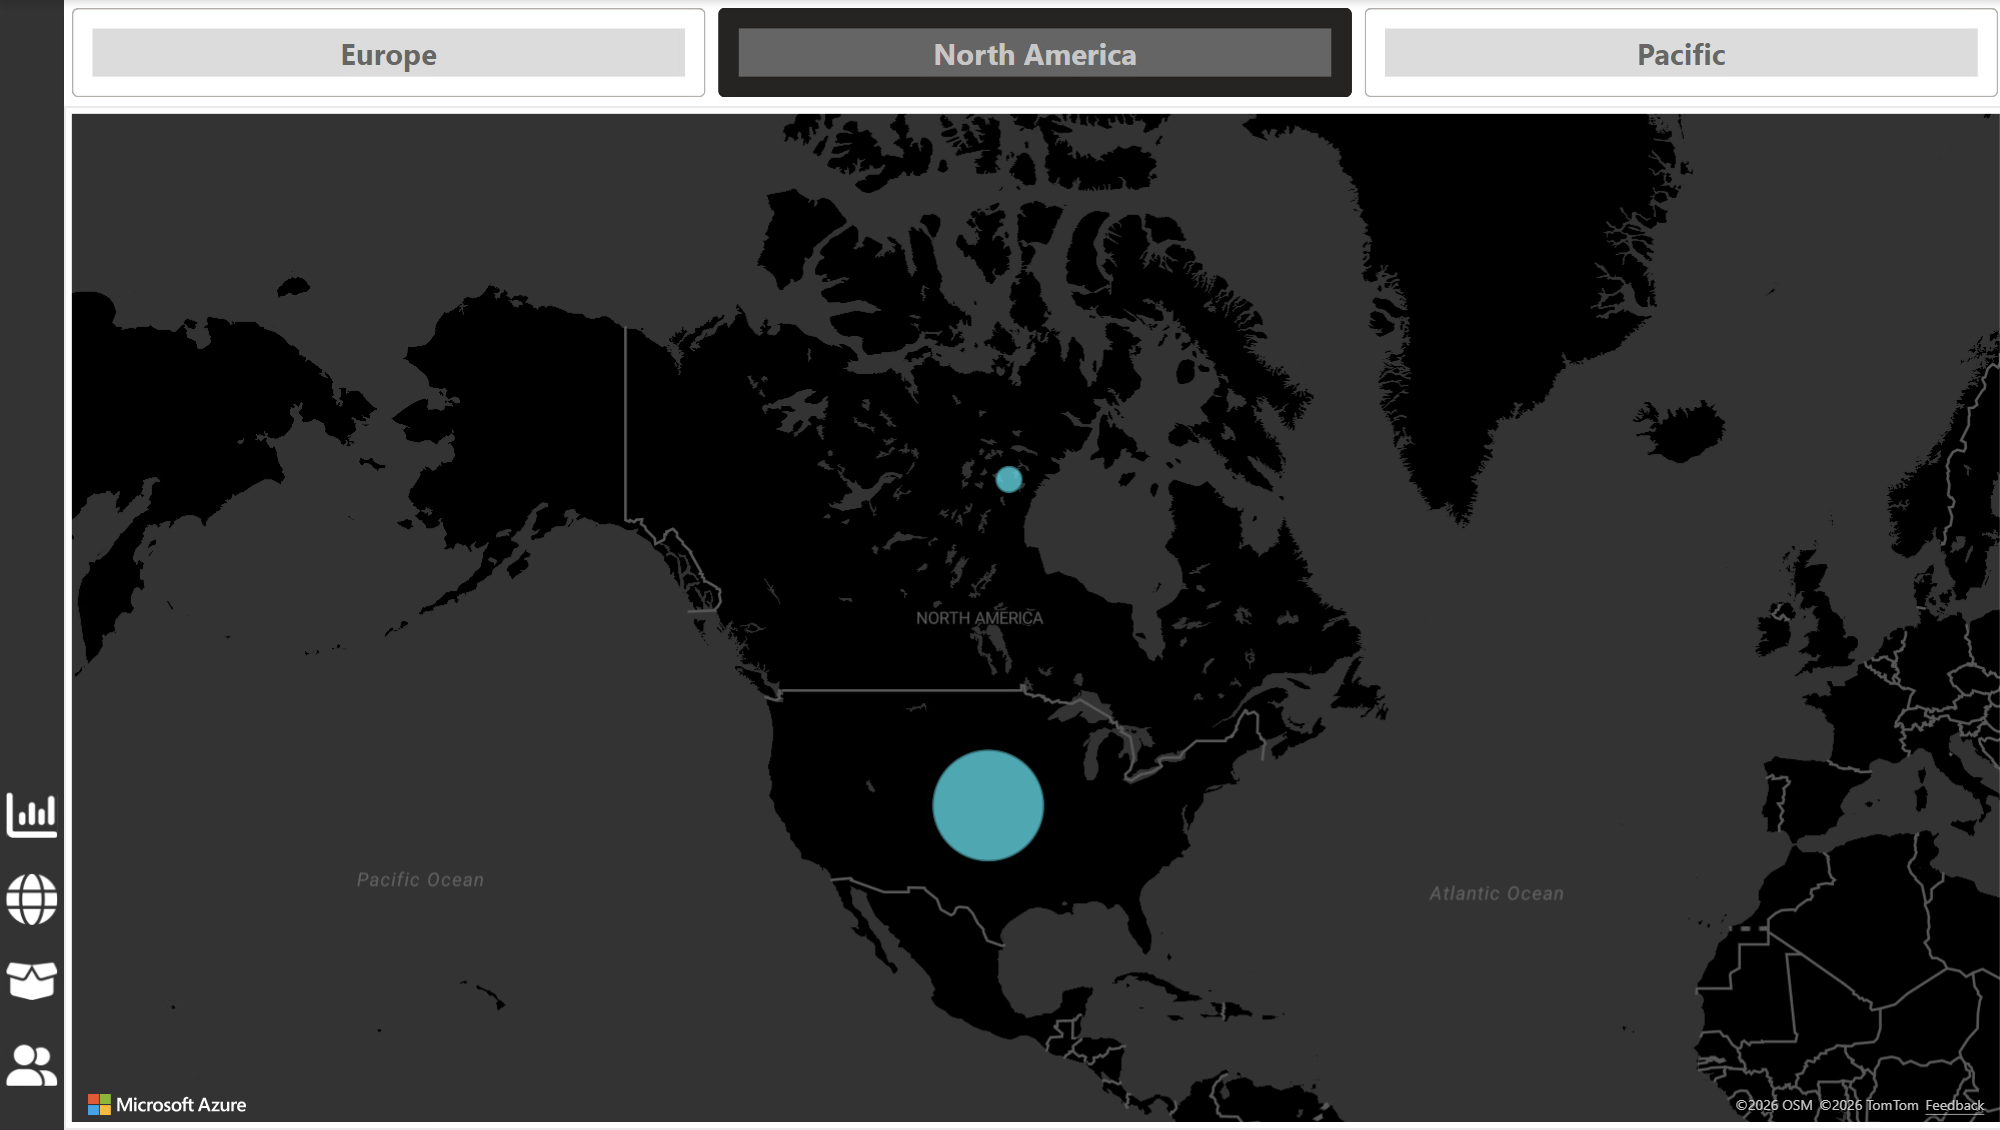

The dashboard page shown, as its layout file describes it:
{"tool":"powerbi","page":{"name":"Map","canvas":[1280,720],"ordinal":1},"visuals":[{"type":"shape","box":[0,0,41,720.5],"z":0},{"type":"actionButton","box":[0,546.7,40.7,53.1],"z":0,"group":"g1"},{"type":"azureMap","fields":{"Category":["Territory Lookup.Country"],"Size":["Measure Table.Total Order"]},"box":[40.9,67.1,1239.1,652.6],"z":1000},{"type":"actionButton","box":[0,653,40.7,53.1],"z":1000,"group":"g1"},{"type":"advancedSlicerVisual","fields":{"Values":["Territory Lookup.Continent"]},"box":[40.9,0,1239.1,67.1],"z":2000},{"type":"actionButton","box":[0,493.6,40.7,53.1],"z":2000,"group":"g1"},{"type":"group","id":"g1","title":"Navigation buttons ","box":[0,493.6,40.7,212.6],"z":3000},{"type":"actionButton","box":[0,599.9,40.7,53.1],"z":3000,"group":"g1"}]}

Visuals, with their boxes in screenshot pixels (x1, y1, x2, y2):
shape: box=[0, 5, 63, 1115]
actionButton: box=[0, 848, 63, 929]
azureMap - Territory Lookup.Country x Measure Table.Total Order: box=[63, 109, 1972, 1114]
actionButton: box=[0, 1011, 63, 1093]
advancedSlicerVisual - Territory Lookup.Continent: box=[63, 5, 1972, 109]
actionButton: box=[0, 766, 63, 848]
"Navigation buttons " group: box=[0, 766, 63, 1093]
actionButton: box=[0, 930, 63, 1011]
